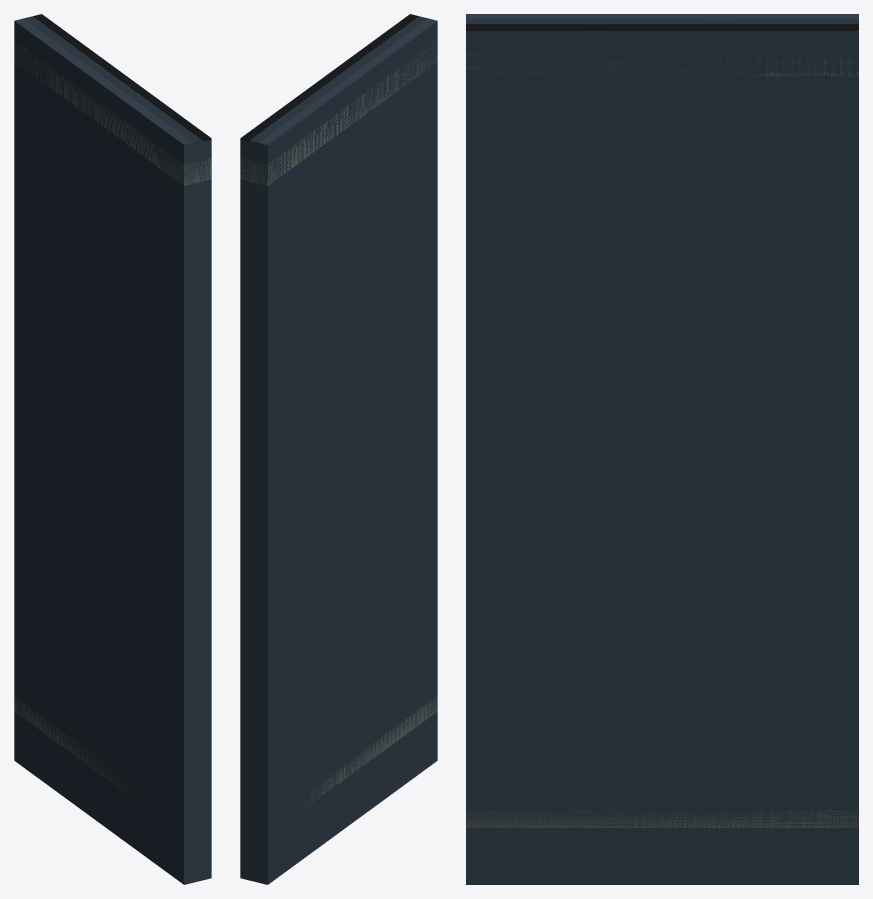
File: CMU3DInteriorVehicleBoxVanFront2.glb
The picture shows the model from 3 angles, left to right: view 1: azimuth 30°, elevation 25°; view 2: azimuth 150°, elevation 25°; view 3: azimuth 270°, elevation 25°; orthographic projection. The views are drawn at different scales.
Visible parts, largest first — view 1: cabin bulkhead, cabin bulkhead source finish, upper armor trim, lower armor trim; view 2: cabin bulkhead, cabin bulkhead source finish, upper armor trim, lower armor trim; view 3: cabin bulkhead, cabin bulkhead source finish, lower armor trim.
Part boxes in pixels (box(x1,y1,x2,y2)): cabin bulkhead: box(14, 22, 211, 884); cabin bulkhead source finish: box(14, 14, 211, 145); upper armor trim: box(14, 41, 211, 185); lower armor trim: box(14, 696, 140, 802); cabin bulkhead: box(240, 22, 437, 884); cabin bulkhead source finish: box(240, 14, 437, 145); upper armor trim: box(240, 41, 437, 185); lower armor trim: box(300, 696, 437, 810); cabin bulkhead: box(466, 30, 858, 884); cabin bulkhead source finish: box(466, 14, 858, 30); lower armor trim: box(466, 810, 858, 827).
Size of the model in its own units: 0.0938 by 2.4 by 1.
4 materials, 1 textured.
